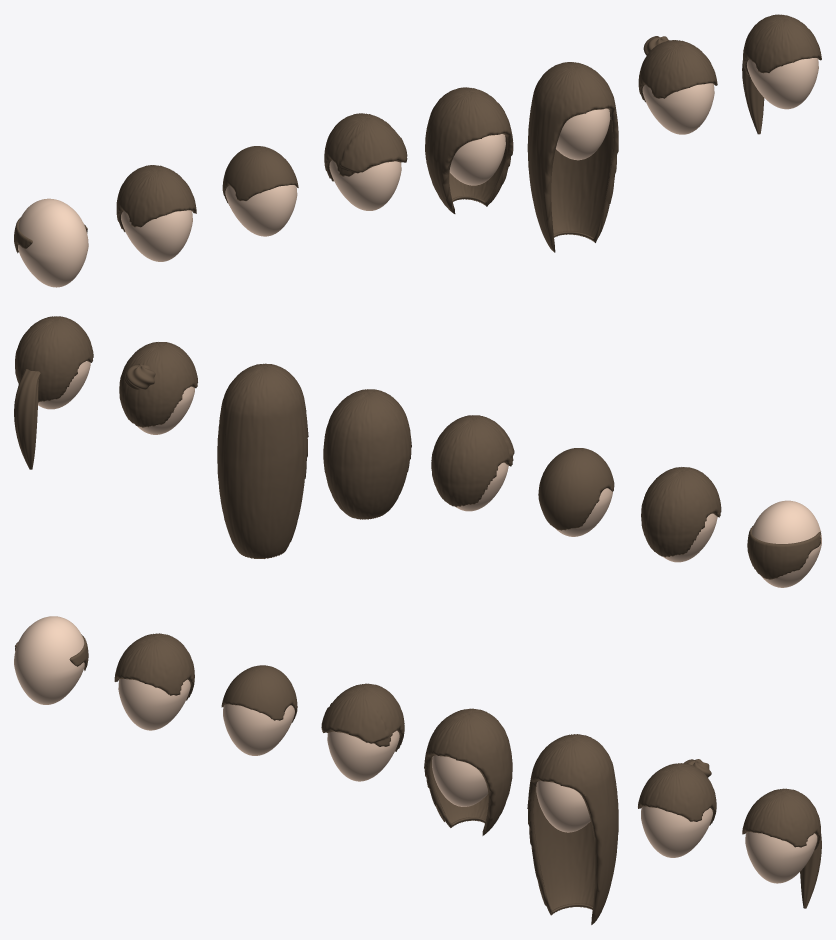
The model's file is pelo.glb.
The picture shows the model from 3 angles, top to bottom: view 1: azimuth 30°, elevation 25°; view 2: azimuth 150°, elevation 25°; view 3: azimuth 330°, elevation 25°; orthographic projection.
Visible parts, largest first — view 1: Pelo_5, Pelo_4, Ref_cabeza_0, Pelo_3, Pelo_1, Pelo_6, Pelo_7, Pelo_2, Ref_cabeza_2, Ref_cabeza_6, Ref_cabeza_1, Ref_cabeza_7 (+4 smaller); view 2: Pelo_5, Pelo_4, Pelo_3, Pelo_1, Pelo_2, Pelo_7, Pelo_6, Ref_cabeza_0, Pelo_0, Pelo_7_coleta, Ref_cabeza_6, Ref_cabeza_2 (+4 smaller); view 3: Pelo_5, Pelo_4, Ref_cabeza_0, Pelo_3, Pelo_1, Pelo_7, Pelo_6, Pelo_2, Ref_cabeza_2, Ref_cabeza_1, Ref_cabeza_7, Ref_cabeza_6 (+4 smaller).
Part boxes in pixels (x1,y1,x2,y2): Pelo_5: [527, 62, 618, 252]; Pelo_4: [425, 87, 513, 213]; Ref_cabeza_0: [18, 198, 88, 287]; Pelo_3: [324, 113, 407, 181]; Pelo_1: [116, 165, 196, 231]; Pelo_6: [638, 40, 717, 102]; Pelo_7: [743, 14, 821, 76]; Pelo_2: [222, 146, 298, 205]; Ref_cabeza_2: [225, 185, 297, 236]; Ref_cabeza_6: [642, 83, 714, 134]; Ref_cabeza_1: [121, 210, 192, 261]; Ref_cabeza_7: [747, 58, 818, 109]; Pelo_5: [217, 363, 308, 558]; Pelo_4: [323, 389, 411, 519]; Pelo_3: [431, 415, 514, 507]; Pelo_1: [641, 467, 721, 557]; Pelo_2: [538, 448, 614, 530]; Pelo_7: [15, 316, 93, 402]; Pelo_6: [119, 342, 197, 427]; Ref_cabeza_0: [751, 500, 821, 587]; Pelo_0: [747, 525, 820, 579]; Pelo_7_coleta: [14, 368, 40, 469]; Ref_cabeza_6: [137, 386, 194, 434]; Ref_cabeza_2: [555, 488, 612, 536]; Pelo_5: [527, 734, 618, 924]; Pelo_4: [424, 708, 512, 835]; Ref_cabeza_0: [14, 616, 84, 704]; Pelo_3: [321, 683, 404, 751]; Pelo_1: [114, 633, 194, 700]; Pelo_7: [742, 788, 820, 851]; Pelo_6: [638, 763, 716, 825]; Pelo_2: [221, 665, 297, 722]; Ref_cabeza_2: [223, 704, 294, 755]; Ref_cabeza_1: [118, 679, 190, 730]; Ref_cabeza_7: [745, 832, 817, 883]; Ref_cabeza_6: [641, 806, 712, 857].
Bounding box in the file's own units: 2.28 × 0.4969 × 0.2734.
